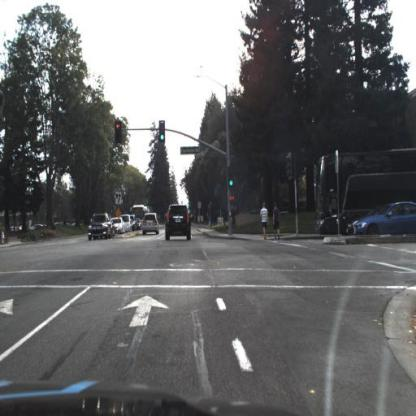car: (353, 203, 416, 239), (164, 202, 193, 242), (88, 212, 113, 243), (141, 211, 161, 238)
pedestrian: (272, 202, 282, 242), (262, 202, 270, 238)
trafficLight-Green: (161, 123, 166, 144), (230, 171, 235, 188)
trafficLight-GreenLeft: (114, 120, 124, 145)
trafficLight-RedLeft: (115, 121, 122, 142)
truck: (312, 150, 416, 236)
